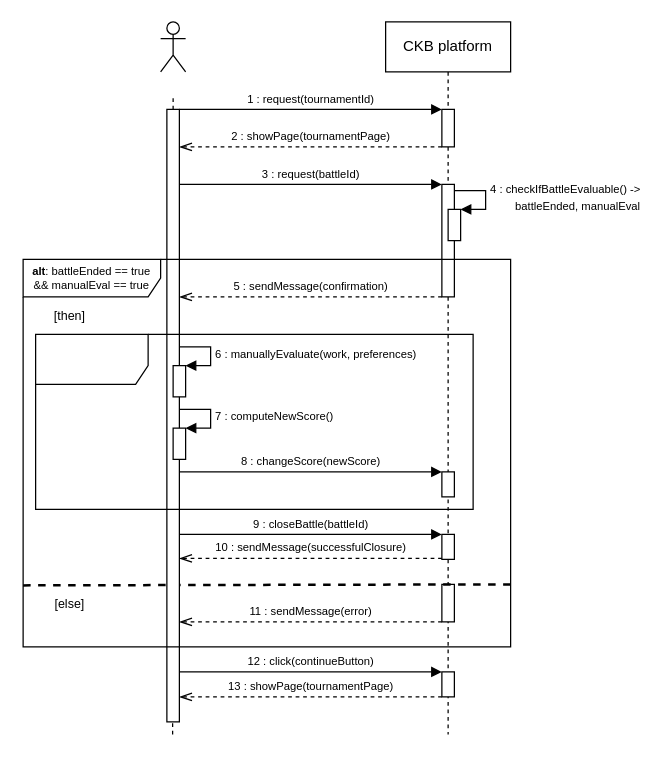
Some shapes in this 665 by 758 pixel diagram are drawn without their labels. Here are the shapes that lost their labels. From the top down, the box of each, then its label:
(159, 21, 186, 72): Educator
(34, 333, 473, 509): loop foreach : group in groups
